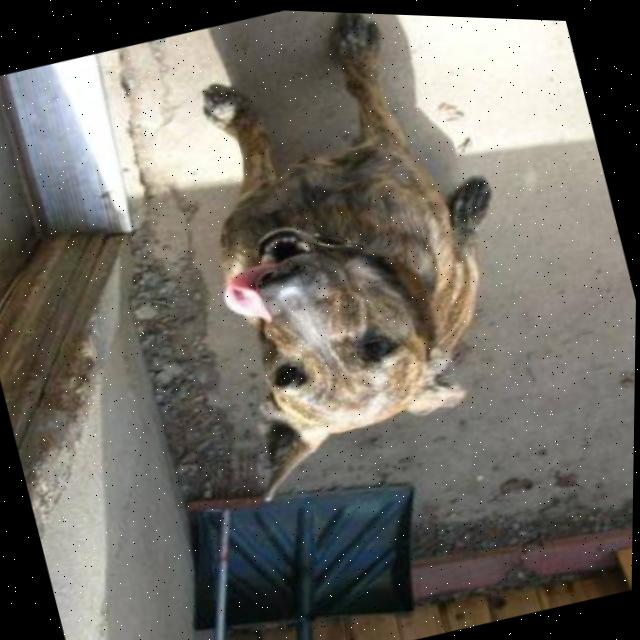dogs: (138, 4, 566, 516)
